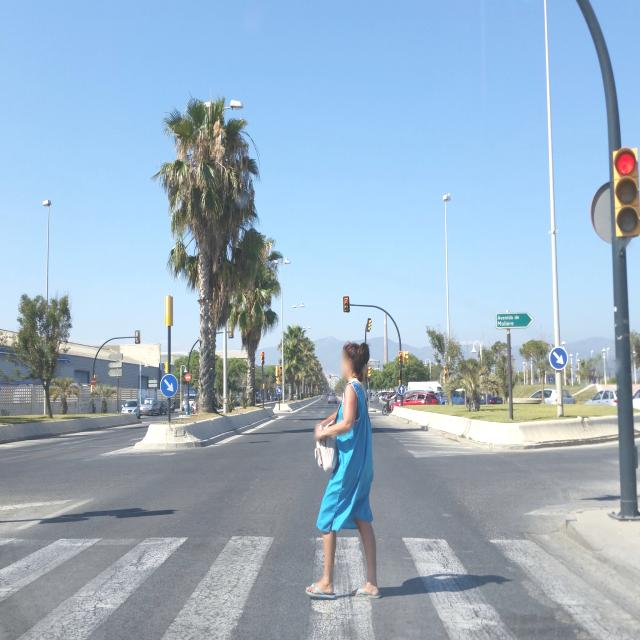bike: (382, 399, 393, 415)
car: (392, 392, 441, 412), (529, 387, 576, 406), (584, 388, 629, 406), (120, 400, 141, 416), (479, 393, 504, 405), (328, 392, 338, 404), (321, 394, 327, 401)
